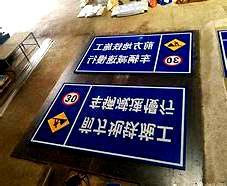sign: (43, 82, 188, 159), (78, 33, 192, 71)
